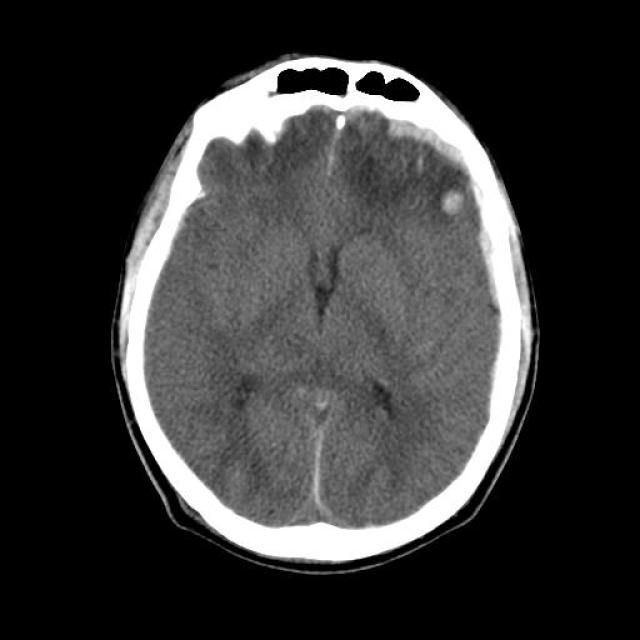Intraparenchymal: (428, 165, 474, 239)
Subdural: (381, 118, 501, 172), (471, 200, 524, 318)
